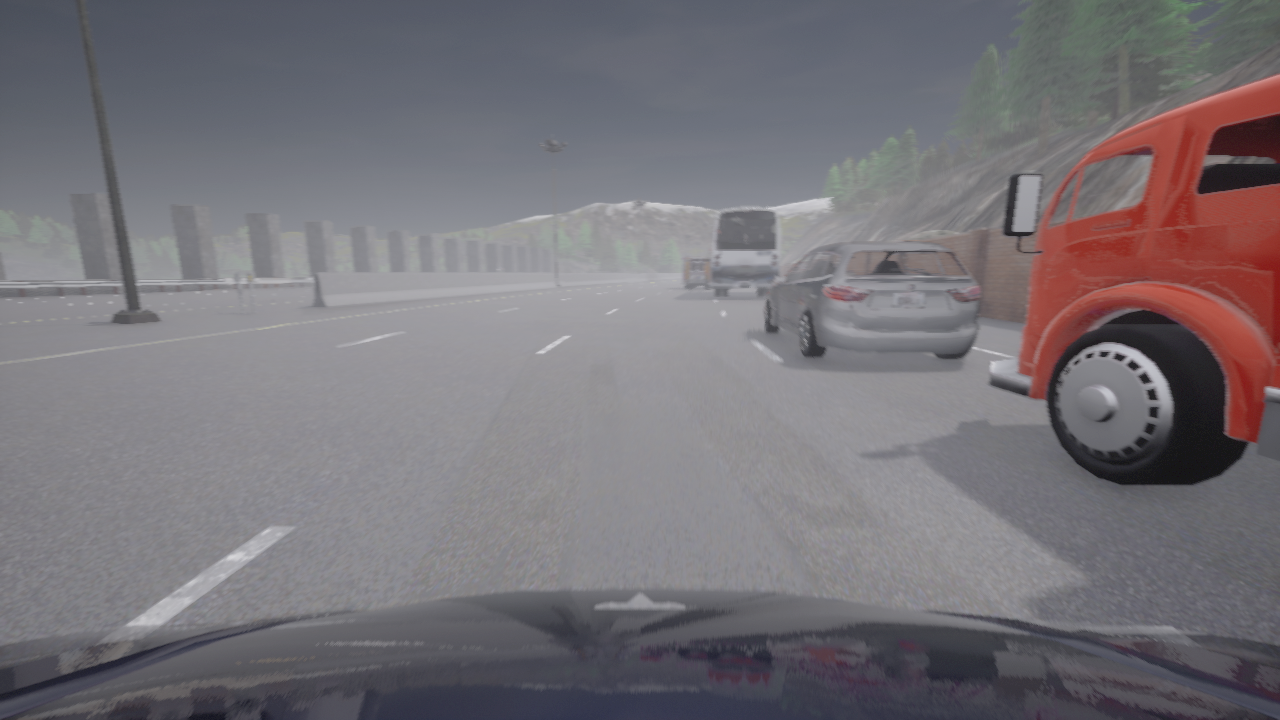cyclist: (0, 588, 1279, 719), (988, 74, 1279, 485), (764, 242, 979, 359), (710, 207, 780, 296), (682, 257, 711, 288)
